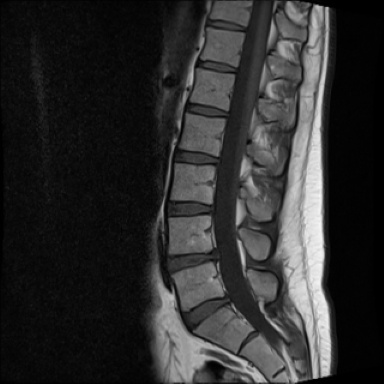Lumbar Disc Bulge (LDB): (163, 246, 225, 277)
Normal IVD: (179, 293, 236, 334), (158, 195, 217, 220), (171, 148, 223, 171), (182, 99, 231, 122), (193, 57, 240, 78), (205, 17, 250, 37)
Spinal Stenosis (SS): (206, 243, 227, 267)
